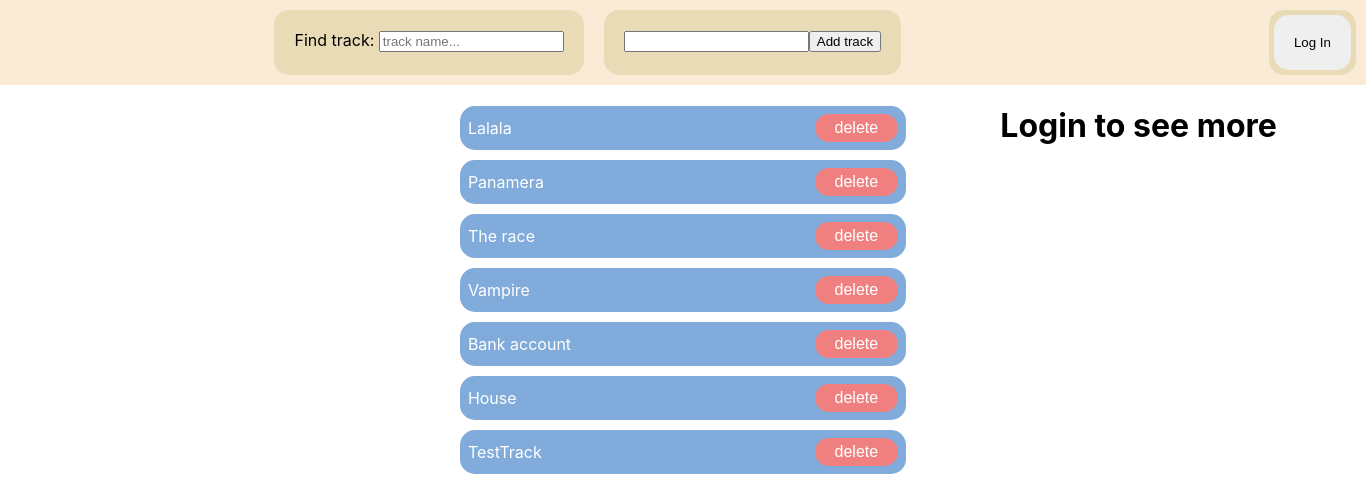
Test case: Check main page › Check delete track
The width and height of the screenshot is (1366, 491).
Expected: the list item "TestTrack" is shown, [468,442,542,462]
Step 1. Click the button "delete" in the row of "TestTrack" → (857, 452), box [815,438,899,466]
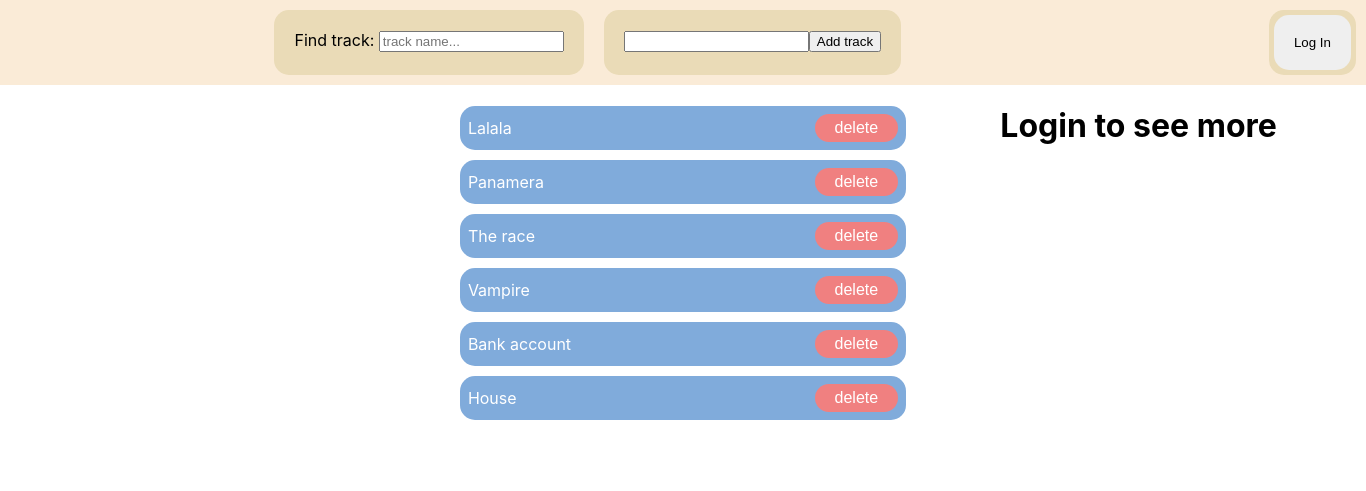
Now the link "TestTrack" no longer shows "TestTrack"
